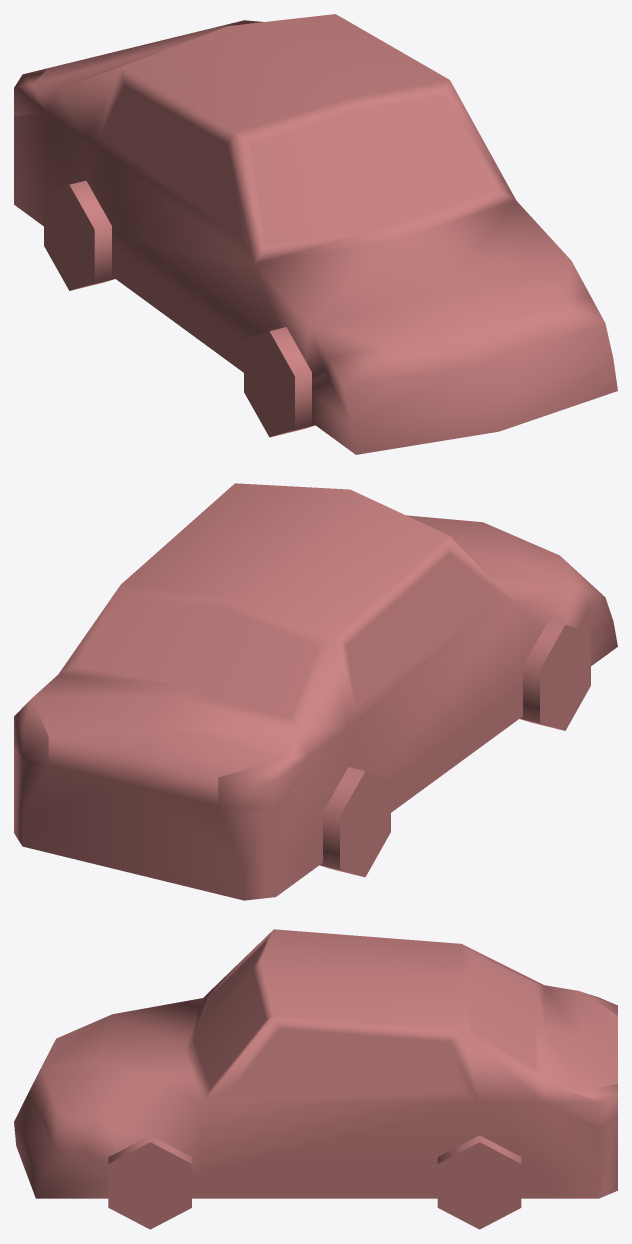
The model's file is Car.fbx.
3 renders of one model, top to bottom at view 1: azimuth 30°, elevation 25°; view 2: azimuth 150°, elevation 25°; view 3: azimuth 270°, elevation 25°, orthographic. The views are drawn at different scales.
Visible parts, largest first — view 1: Car; view 2: Car; view 3: Car.
Part boxes in pixels (bbox=[...]): Car: bbox=[14, 14, 617, 454]; Car: bbox=[14, 483, 617, 900]; Car: bbox=[14, 929, 617, 1229].
Bounding box in the file's own units: 32.87 × 26.99 × 70.56.
